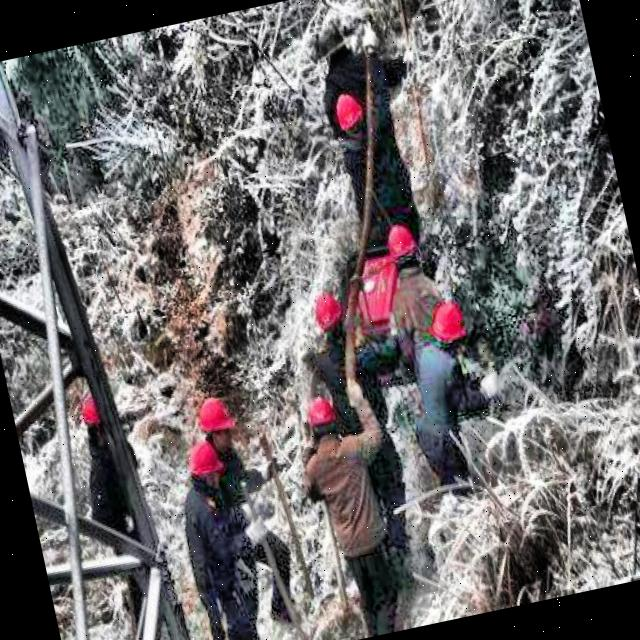helmet: (72, 374, 130, 454), (422, 297, 478, 369), (327, 81, 379, 152), (296, 386, 350, 454), (176, 440, 229, 506), (378, 218, 427, 280), (308, 283, 354, 346), (192, 393, 240, 452)
